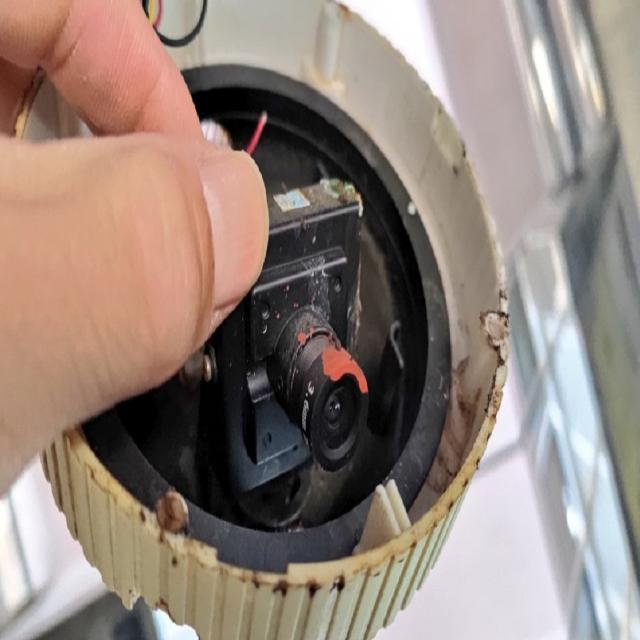hidden camera: (324, 374, 354, 447)
